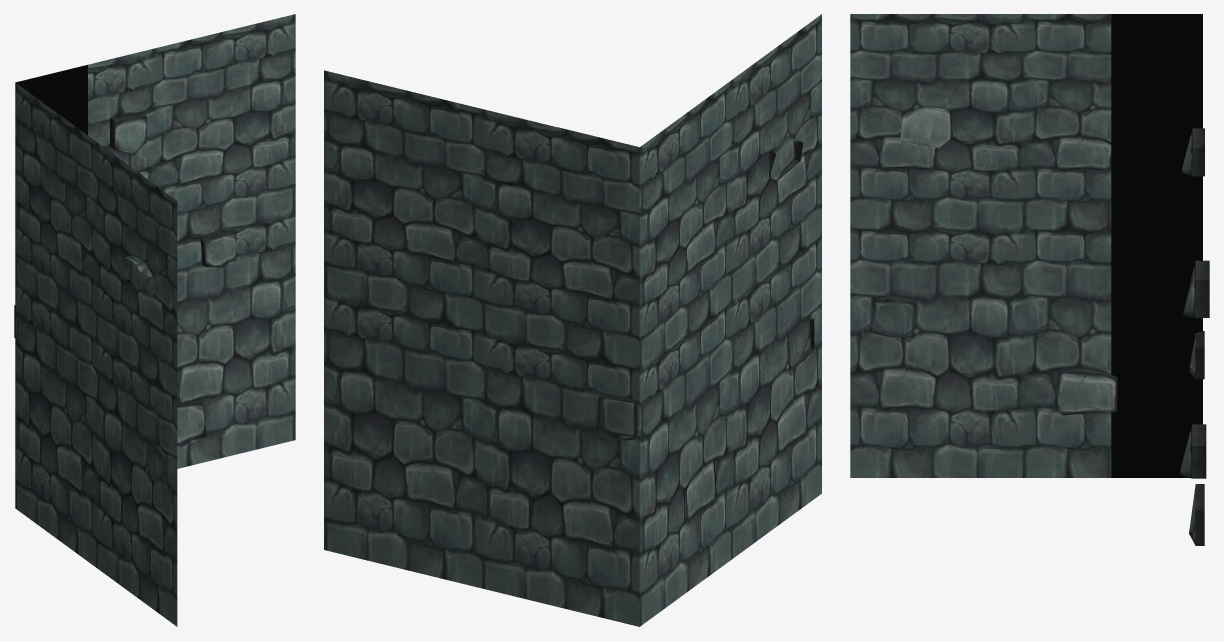
File: crypt_wall_concave_02.fbx
The picture shows the model from 3 angles, left to right: view 1: azimuth 30°, elevation 25°; view 2: azimuth 150°, elevation 25°; view 3: azimuth 270°, elevation 25°; orthographic projection. The views are drawn at different scales.
Visible parts, largest first — view 1: crypt_wall_concave_02-0; view 2: crypt_wall_concave_02-0; view 3: crypt_wall_concave_02-0.
Boxes of the visible parts, <box> form: crypt_wall_concave_02-0: <box>14,14,295,626</box>; crypt_wall_concave_02-0: <box>324,14,821,626</box>; crypt_wall_concave_02-0: <box>850,14,1209,545</box>.
Bounding box in the file's own units: 3.9 × 5.5 × 3.86.
